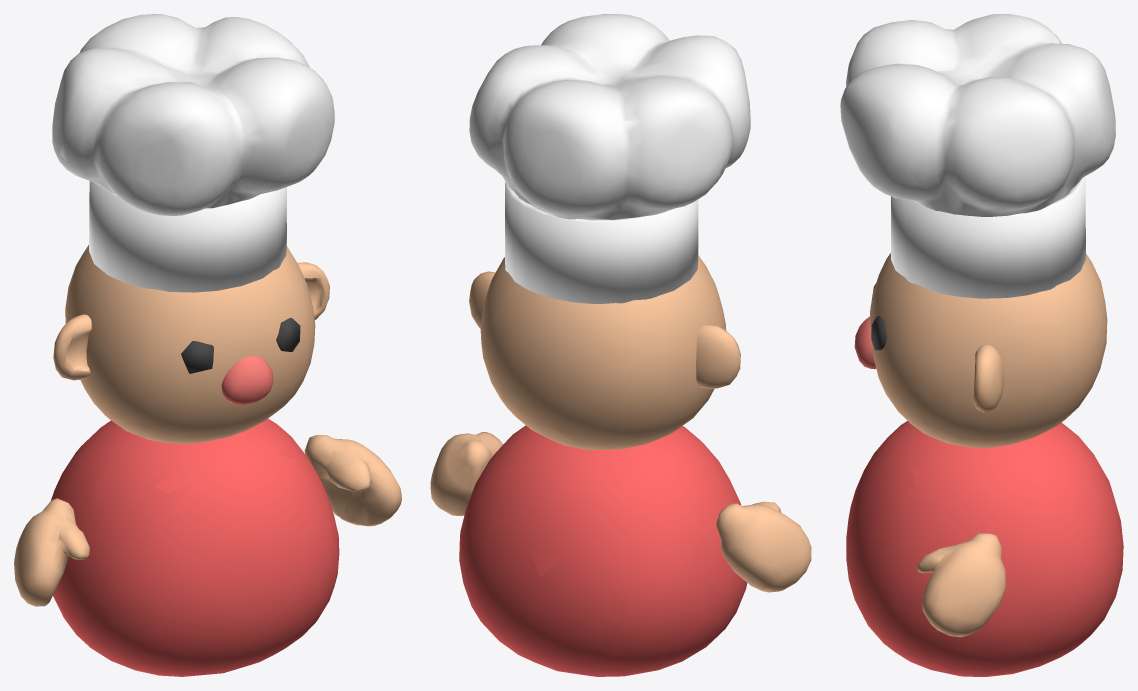
File: cook6.fbx
3 views of the same model, side by side, from view 1: azimuth 30°, elevation 25°; view 2: azimuth 150°, elevation 25°; view 3: azimuth 270°, elevation 25° (orthographic).
Visible parts, largest first — view 1: Nose.004; view 2: Nose.004; view 3: Nose.004.
Boxes of the visible parts, left/top/right/bottom form: Nose.004: left=14, top=14, right=401, bottom=676; Nose.004: left=430, top=14, right=811, bottom=676; Nose.004: left=840, top=14, right=1123, bottom=676.
Size of the model in its own units: 1.5 by 2.33 by 0.9924.
